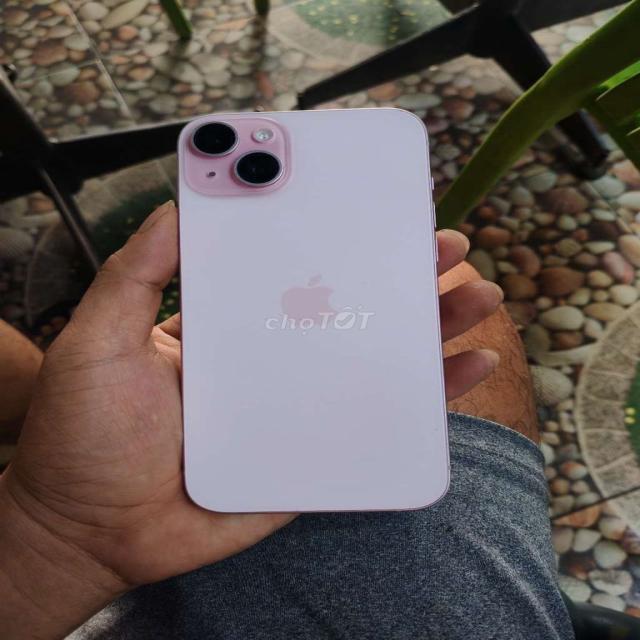scratch: (434, 425, 441, 433)
